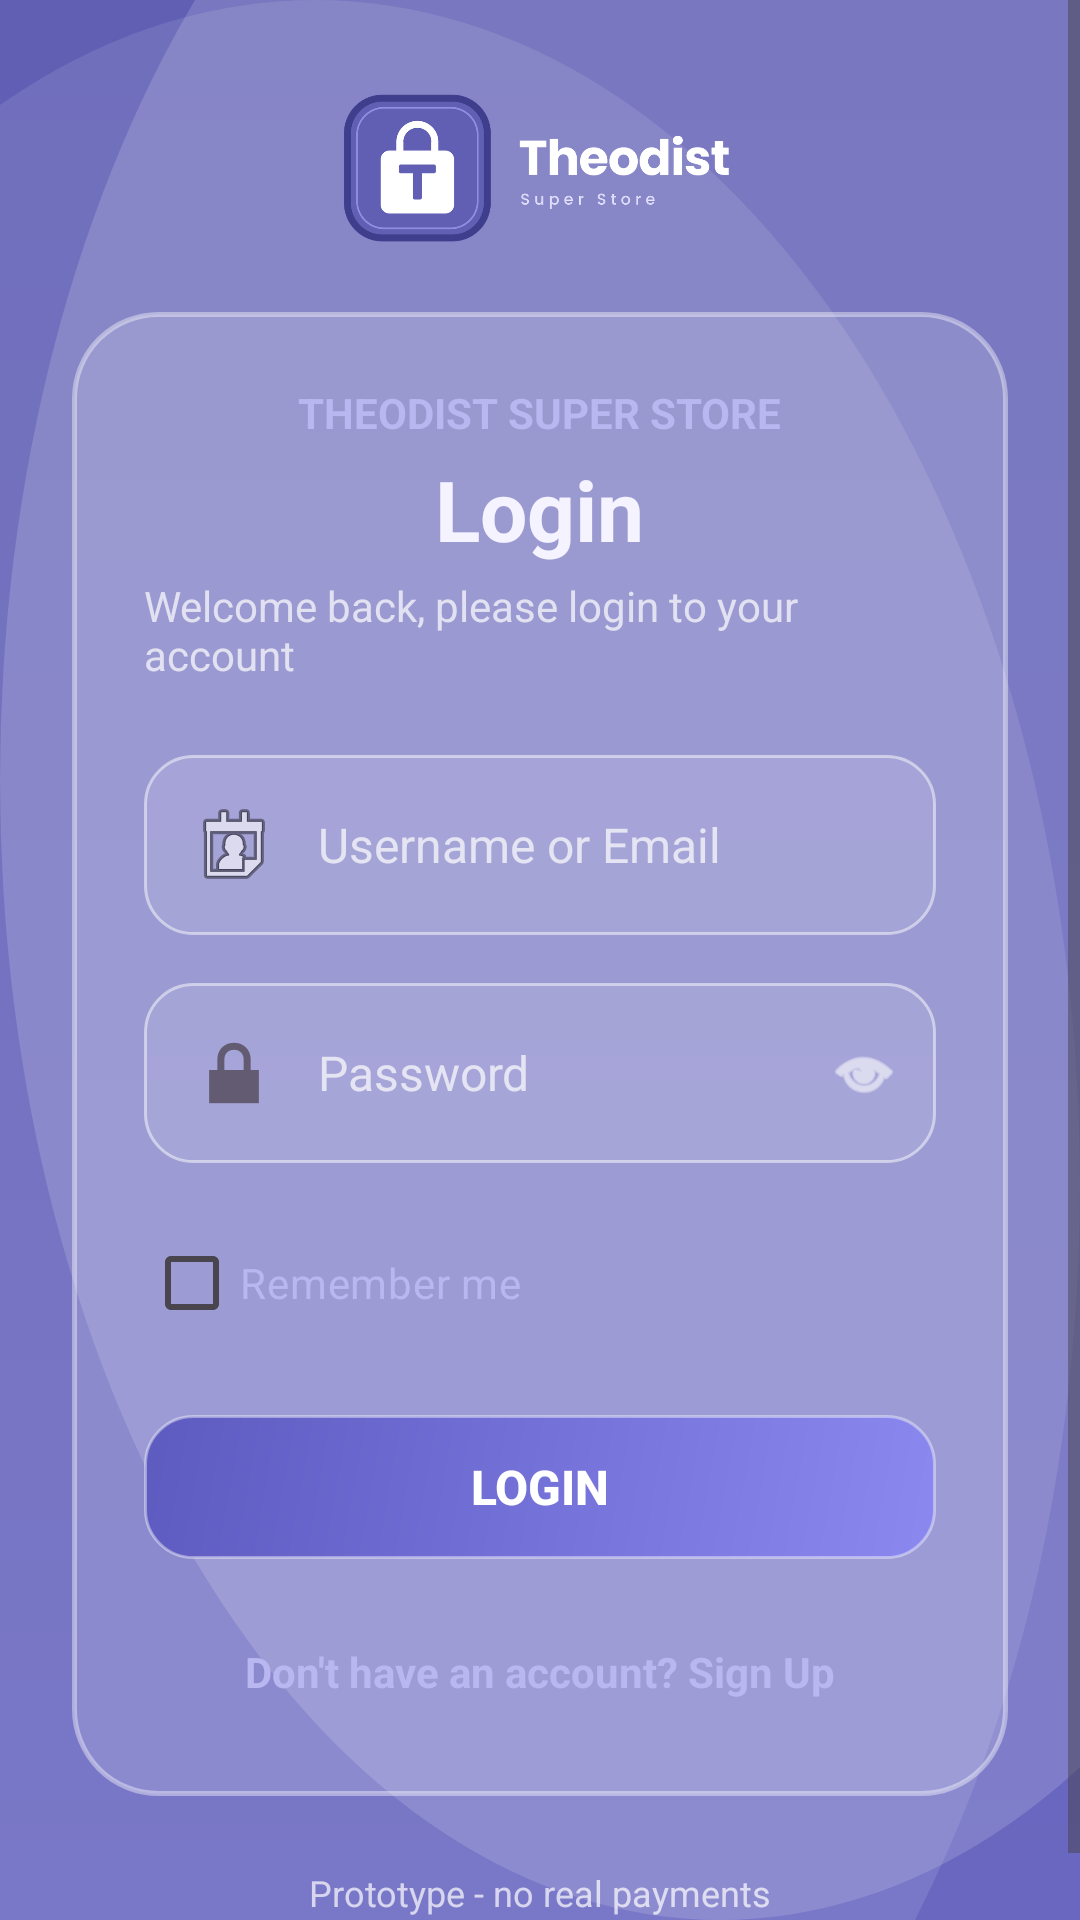

Icon click points for this 1080px x 1920px phone screenshot, format (x=x, y=y):
view: (x=864, y=1075)
